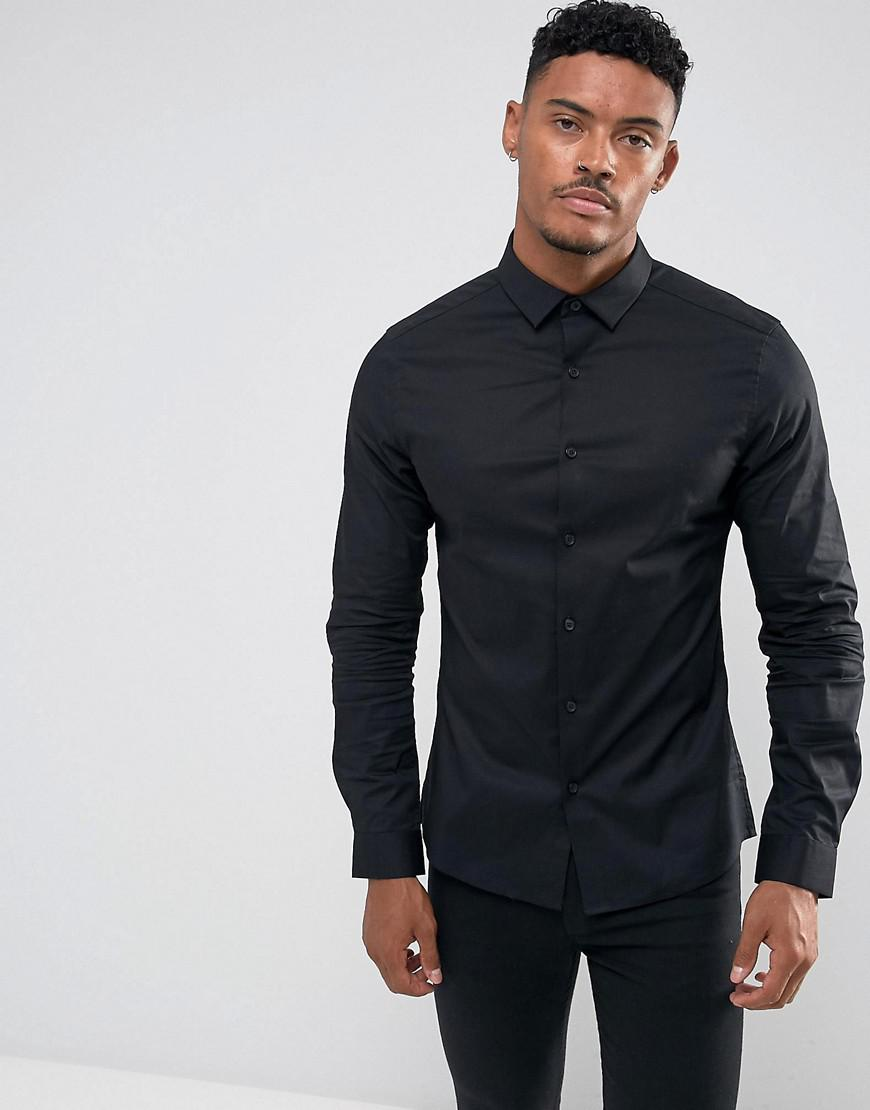teeshirt: (301, 230, 866, 946)
